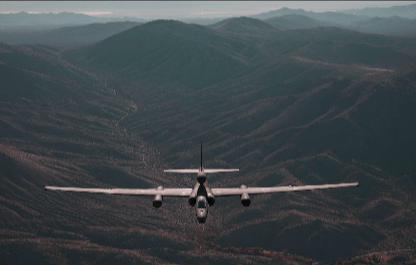Tu160: (43, 135, 359, 221)
